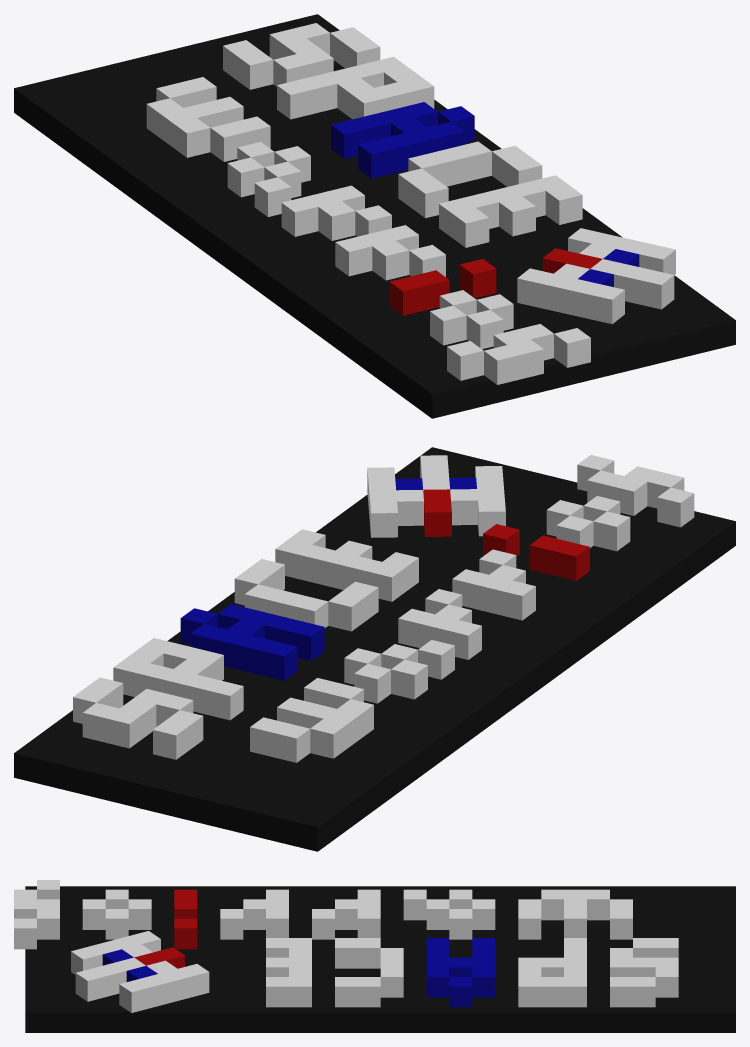
File: Title.fbx
3 views of the same model, one above another, from view 1: azimuth 30°, elevation 25°; view 2: azimuth 150°, elevation 25°; view 3: azimuth 270°, elevation 25° (orthographic). The views are drawn at different scales.
Visible parts, largest first — view 1: Box106, Box089, Box086, Box044, Box084, Box068, Box081, Box010, Box049, Box091, Box094, Box105 (+53 smaller); view 2: Box106, Box097, Box063, Box105, Box029, Box091, Box086, Box005, Box011, Box021, Box069, Box072 (+50 smaller); view 3: Box106, Box117, Box121, Box080, Box094, Box004, Box023, Box024, Box032, Box035, Box064, Box067 (+50 smaller).
Part boxes in pixels (x1,y1,x2,y2): Box106: (14,14,735,418); Box089: (372,240,409,280); Box086: (335,236,372,276); Box044: (545,185,582,224); Box084: (318,201,355,240); Box068: (173,118,210,157); Box081: (281,197,318,236); Box010: (236,50,273,89); Box049: (452,208,489,247); Box091: (389,276,426,315); Box094: (459,259,496,298); Box105: (447,341,483,380); Box106: (14,447,735,851); Box097: (593,511,630,551); Box063: (273,723,310,762); Box105: (657,487,694,527); Box029: (260,641,297,680); Box091: (553,541,589,580); Box086: (499,580,535,620); Box005: (106,708,142,748); Box011: (153,720,189,759); Box021: (207,680,243,720); Box069: (310,719,346,758); Box072: (391,659,427,699); Box106: (25,886,735,1032); Box117: (75,968,107,1001); Box121: (119,979,150,1012); Box080: (403,889,426,920); Box094: (174,918,197,949); Box004: (655,967,678,997); Box023: (426,967,449,997); Box024: (472,967,495,997); Box032: (380,967,403,997); Box035: (357,938,380,968); Box064: (518,909,541,939); Box067: (472,899,495,929).
Bounding box in the file's own units: 131 × 20 × 315.
